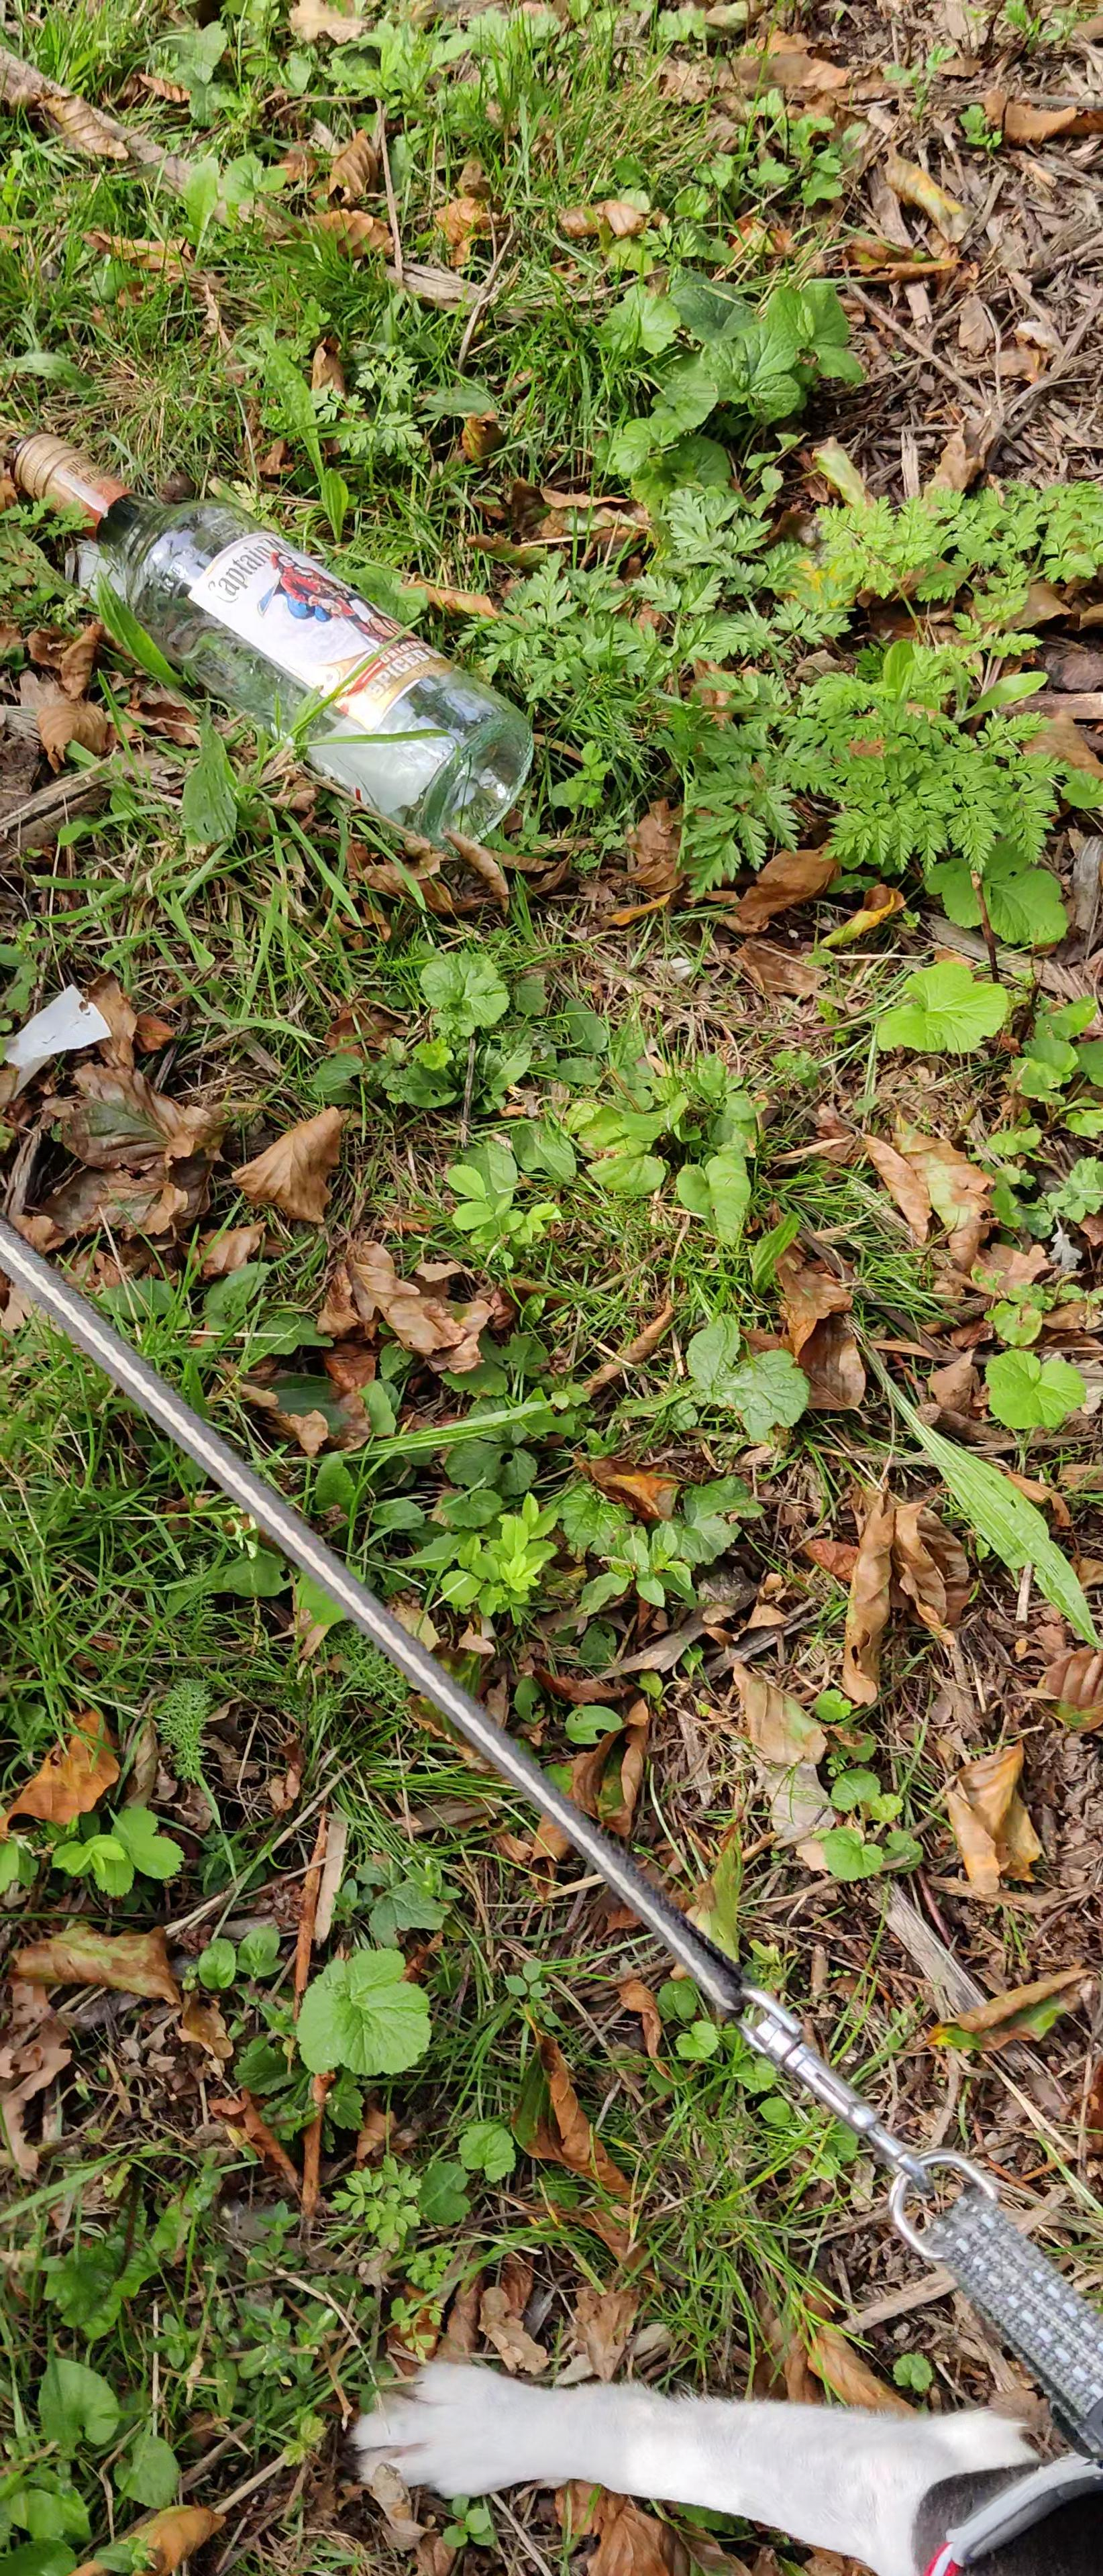Dog: (314, 2269, 1103, 2576)
